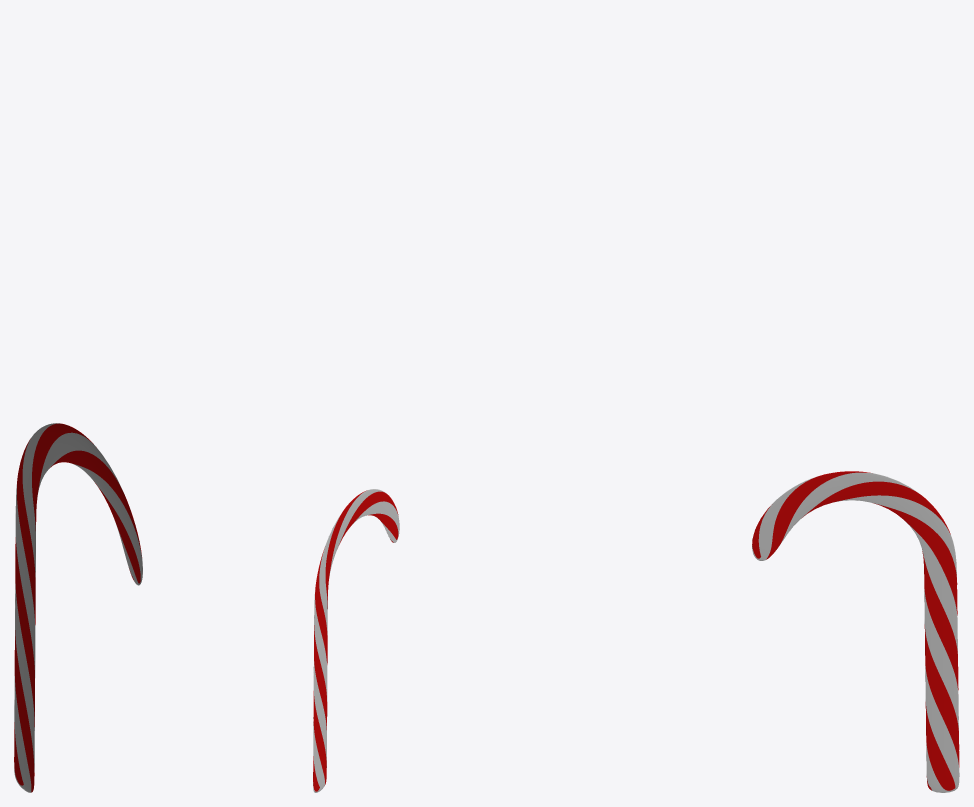
3 renders of one model, left to right at view 1: azimuth 30°, elevation 25°; view 2: azimuth 150°, elevation 25°; view 3: azimuth 270°, elevation 25°, orthographic. The views are drawn at different scales.
Visible parts, largest first — view 1: Circle; view 2: Circle; view 3: Circle.
Boxes of the visible parts, x1,y1,x2,y2 form: Circle: (14,423,142,792); Circle: (313,489,399,792); Circle: (752,471,959,792).
Bounding box in the file's own units: 0.6854 × 938 × 476.
